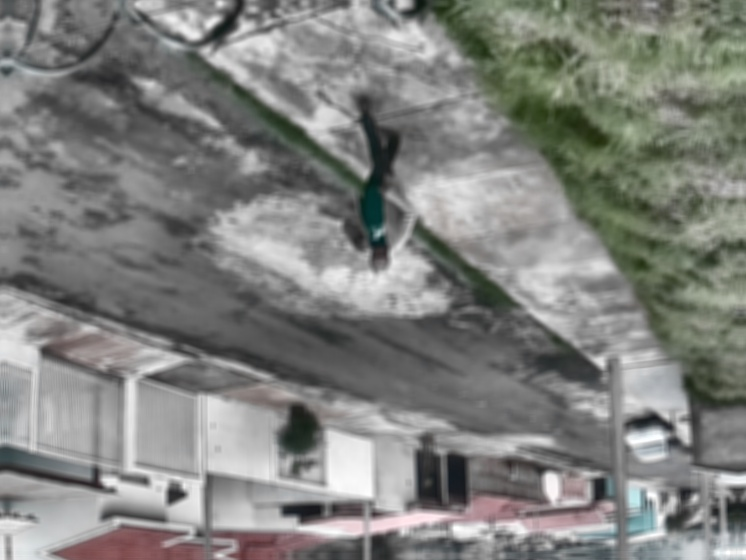person: (337, 95, 417, 279)
